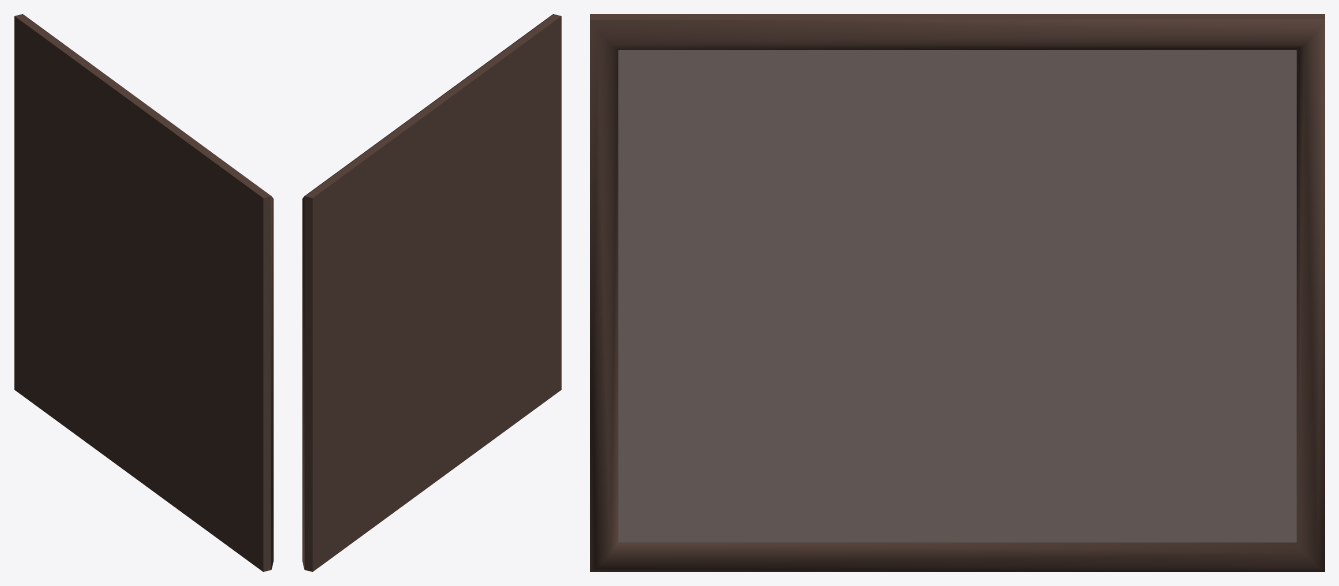
Rendered from hanging_picture.fbx.
3 renders of one model, left to right at view 1: azimuth 30°, elevation 25°; view 2: azimuth 150°, elevation 25°; view 3: azimuth 270°, elevation 25°, orthographic. The views are drawn at different scales.
Visible parts, largest first — view 1: frame; view 2: frame; view 3: glass1, hand_print_animation1, frame.
Part boxes in pixels (x1,y1,x2,y2): frame: (14,14,273,571); frame: (302,14,561,571); glass1: (618,50,1296,542); hand_print_animation1: (618,50,1296,542); frame: (590,14,1324,571).
Size of the model in its own units: 0.0331 by 0.9177 by 1.11.
